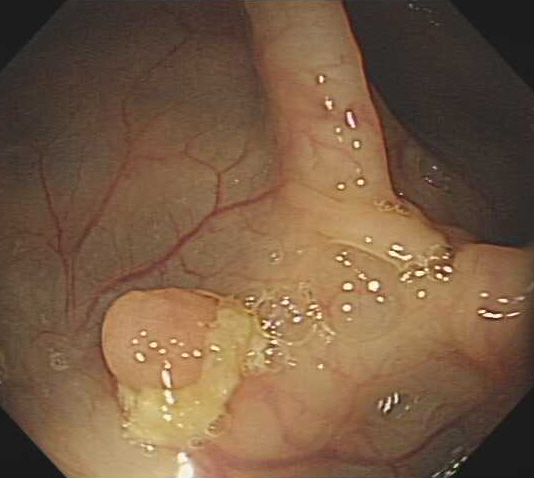adenoma: (97, 285, 229, 395)
